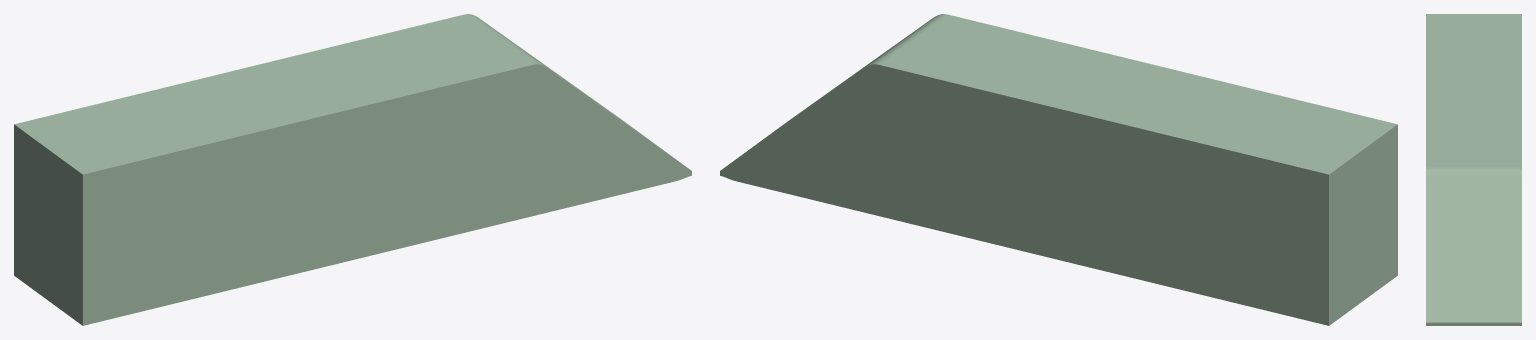
Rendered from ER_ANG_V002_candidate.glb.
3 views of the same model, side by side, from view 1: azimuth 30°, elevation 25°; view 2: azimuth 150°, elevation 25°; view 3: azimuth 270°, elevation 25° (orthographic). The views are drawn at different scales.
Parts seen in each view (by area): view 1: ER_ANG_V002_candidate; view 2: ER_ANG_V002_candidate; view 3: ER_ANG_V002_candidate.
Boxes of the visible parts, box(x1,y1,x2,y2) form: ER_ANG_V002_candidate: box(14, 14, 691, 325); ER_ANG_V002_candidate: box(720, 14, 1397, 325); ER_ANG_V002_candidate: box(1426, 14, 1521, 325).
Bounding box in the file's own units: 0.7876 × 0.187 × 0.154.
